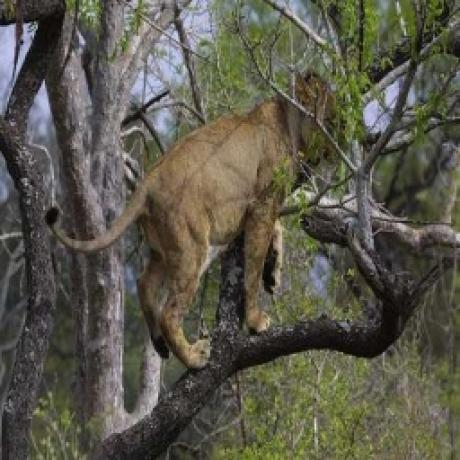Lion: (38, 74, 337, 367)
